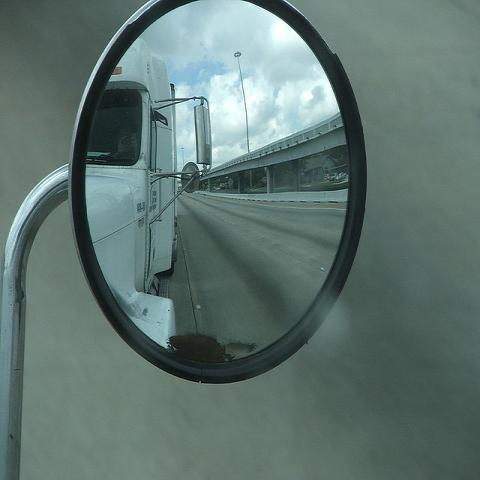truck: (85, 37, 211, 351)
